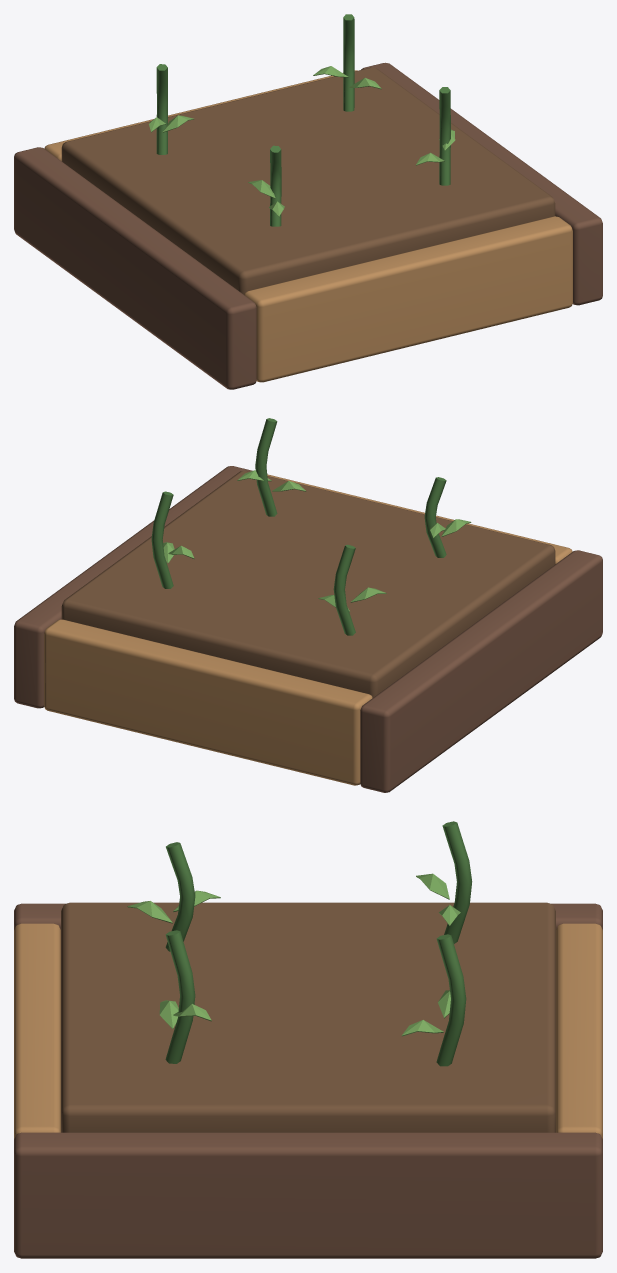
The model's file is garden.flower.cornflower-sprout.glb.
3 views of the same model, one above another, from view 1: azimuth 30°, elevation 25°; view 2: azimuth 150°, elevation 25°; view 3: azimuth 270°, elevation 25° (orthographic). The views are drawn at different scales.
Visible parts, largest first — view 1: Cedar raised bed rail; view 2: Cedar raised bed rail; view 3: Cedar raised bed rail.
Boxes of the visible parts, x1,y1,x2,y2 form: Cedar raised bed rail: (14,14,602,389); Cedar raised bed rail: (14,418,602,792); Cedar raised bed rail: (14,821,602,1258).
Bounding box in the file's own units: 1 × 0.4927 × 1.
